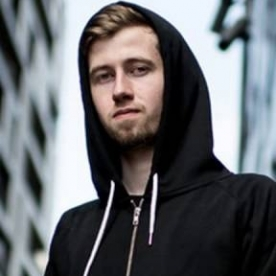BOY: (80, 10, 176, 137)
